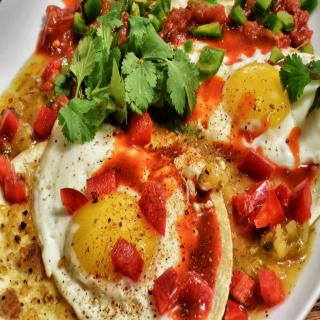tomato: (110, 237, 144, 286), (136, 190, 166, 238), (152, 266, 180, 314), (253, 190, 283, 232), (288, 176, 312, 223), (85, 171, 118, 202), (60, 187, 87, 218), (127, 111, 153, 143), (32, 106, 58, 134), (0, 106, 18, 137)
